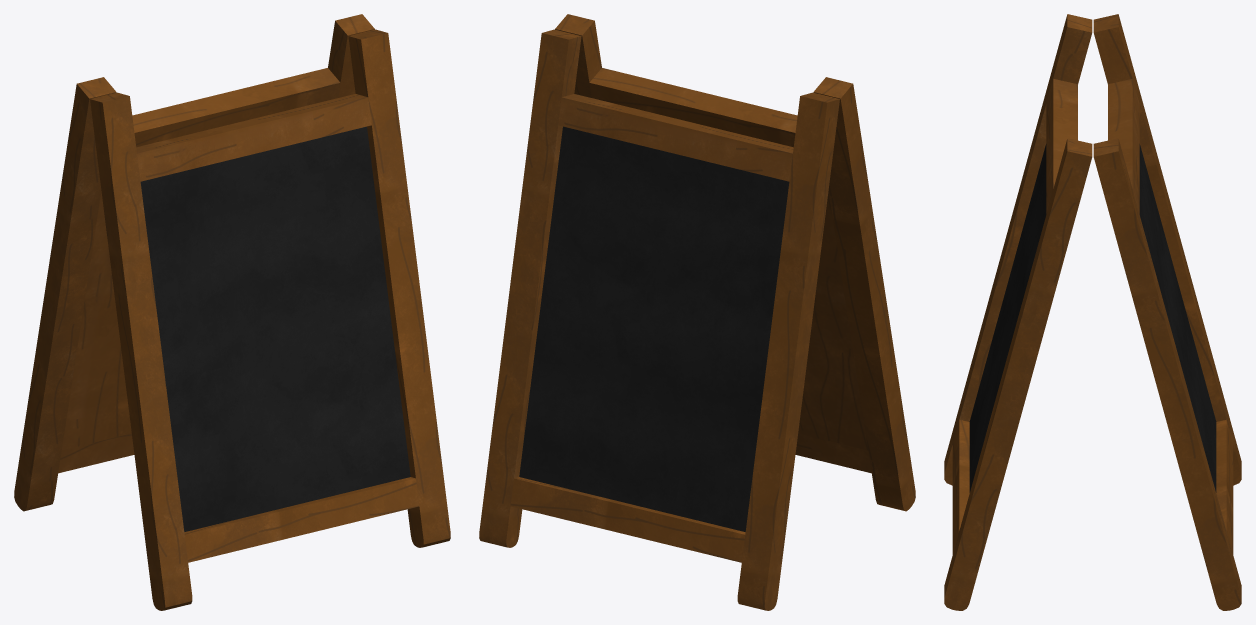
Rendered from Mesh_Ardoise.FBX.
The picture shows the model from 3 angles, left to right: view 1: azimuth 30°, elevation 25°; view 2: azimuth 150°, elevation 25°; view 3: azimuth 270°, elevation 25°; orthographic projection.
Parts seen in each view (by area): view 1: Box011; view 2: Box011; view 3: Box011.
Part boxes in pixels (x1,y1,x2,y2): Box011: (14,14,450,610); Box011: (479,14,915,610); Box011: (944,14,1241,610).
Bounding box in the file's own units: 34.55 × 53.96 × 31.66.
